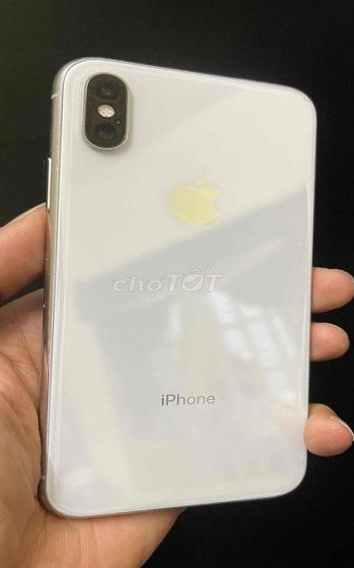scratch: (113, 131, 134, 153)
